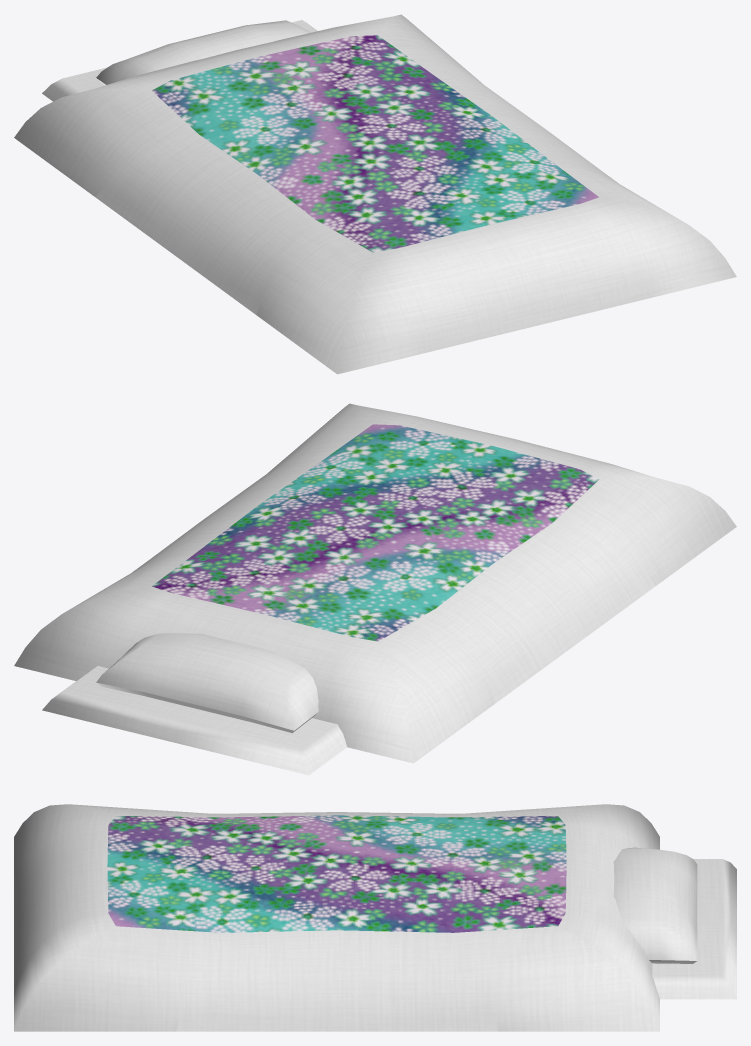
Rendered from 0721_futon_02.fbx.
The picture shows the model from 3 angles, top to bottom: view 1: azimuth 30°, elevation 25°; view 2: azimuth 150°, elevation 25°; view 3: azimuth 270°, elevation 25°; orthographic projection.
Visible parts, largest first — view 1: Futon_InPlayer, Makura, Futon_flat; view 2: Futon_InPlayer, Makura, Futon_flat; view 3: Futon_InPlayer, Makura, Futon_flat.
Boxes of the visible parts, x1,y1,x2,y2 form: Futon_InPlayer: (14,14,736,374); Makura: (96,20,311,85); Futon_flat: (42,20,317,101); Futon_InPlayer: (14,403,736,763); Makura: (96,633,318,733); Futon_flat: (42,666,346,775); Futon_InPlayer: (14,804,659,1031); Makura: (613,847,697,963); Futon_flat: (652,859,736,999).
Size of the model in its own units: 150 by 235 by 24.86.
1 material, 1 textured.
